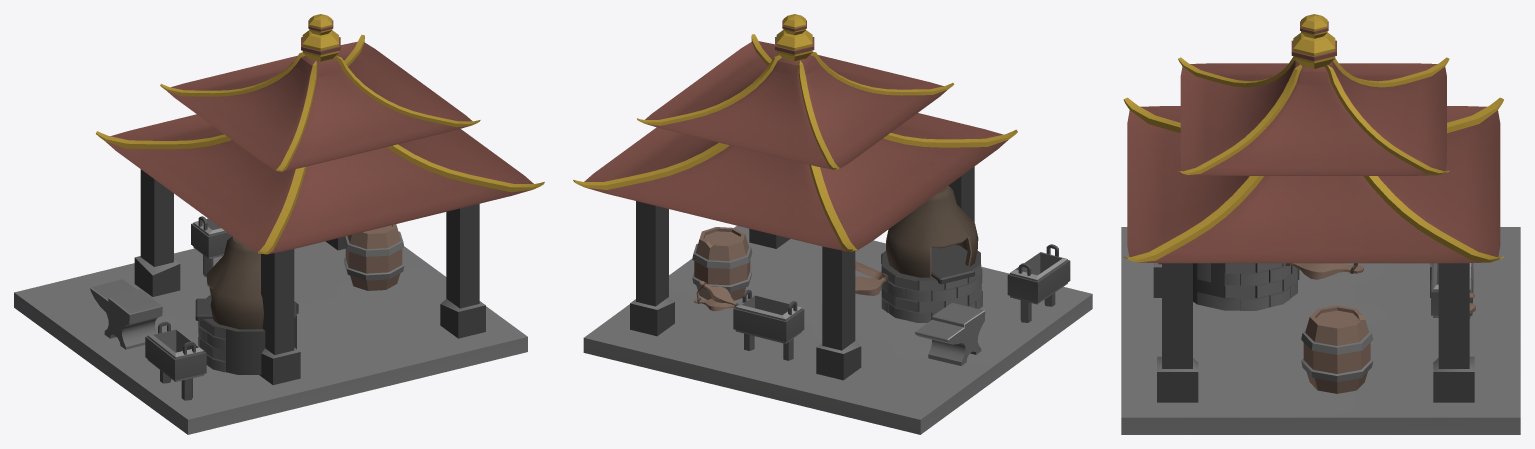
The model's file is royal.fbx.
3 views of the same model, side by side, from view 1: azimuth 30°, elevation 25°; view 2: azimuth 150°, elevation 25°; view 3: azimuth 270°, elevation 25° (orthographic). The views are drawn at different scales.
Visible parts, largest first — view 1: royal; view 2: royal; view 3: royal.
Boxes of the visible parts, <box> form: royal: <box>14,14,544,434</box>; royal: <box>573,14,1092,434</box>; royal: <box>1121,14,1520,434</box>.
Bounding box in the file's own units: 661 × 535 × 553.
